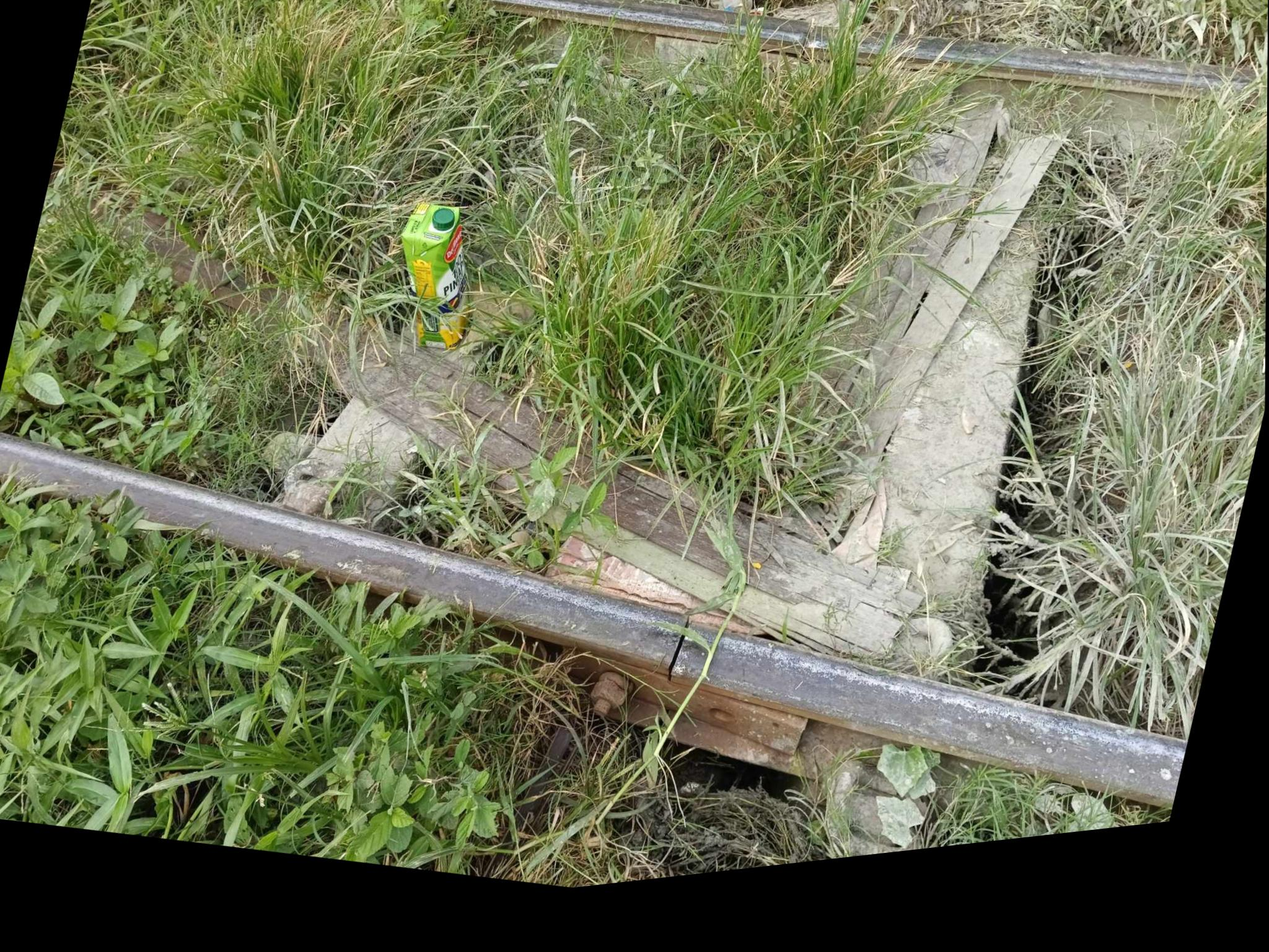person: (597, 579, 768, 752)
